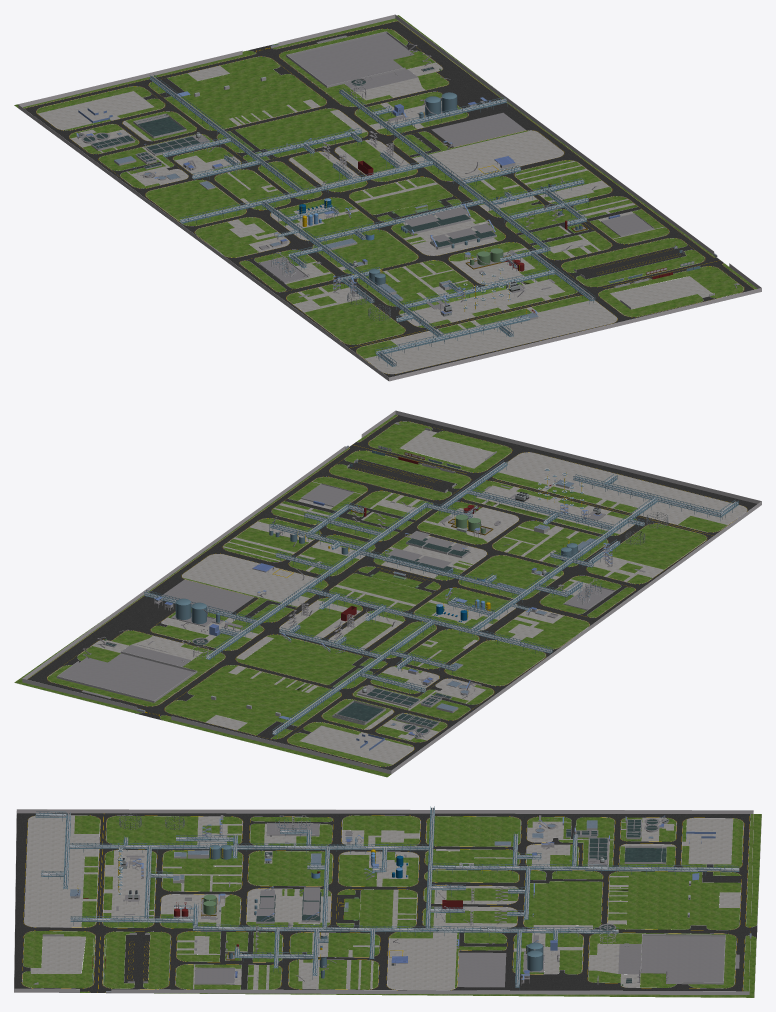
Rendered from ground.glb.
3 views of the same model, one above another, from view 1: azimuth 30°, elevation 25°; view 2: azimuth 150°, elevation 25°; view 3: azimuth 270°, elevation 25° (orthographic).
Visible parts, largest first — view 1: 000000-草地, 000000-1, 000000-路面, 000000-管廊; view 2: 000000-草地, 000000-1, 000000-路面, 000000-管廊; view 3: 000000-草地, 000000-1, 000000-路面, 000000-管廊.
Part boxes in pixels (<box>): 000000-草地: <box>14,15,757,373</box>; 000000-1: <box>26,21,753,374</box>; 000000-路面: <box>24,21,754,377</box>; 000000-管廊: <box>14,14,761,381</box>; 000000-草地: <box>14,414,746,777</box>; 000000-1: <box>29,416,747,766</box>; 000000-路面: <box>27,414,757,770</box>; 000000-管廊: <box>14,410,761,777</box>; 000000-草地: <box>22,814,761,997</box>; 000000-1: <box>21,806,751,993</box>; 000000-路面: <box>14,813,757,992</box>; 000000-管廊: <box>14,807,761,997</box>.
Size of what is drawn, in the model's own units: 417 by 36.5 by 713.
Materials: 27 (19 with a texture image).
